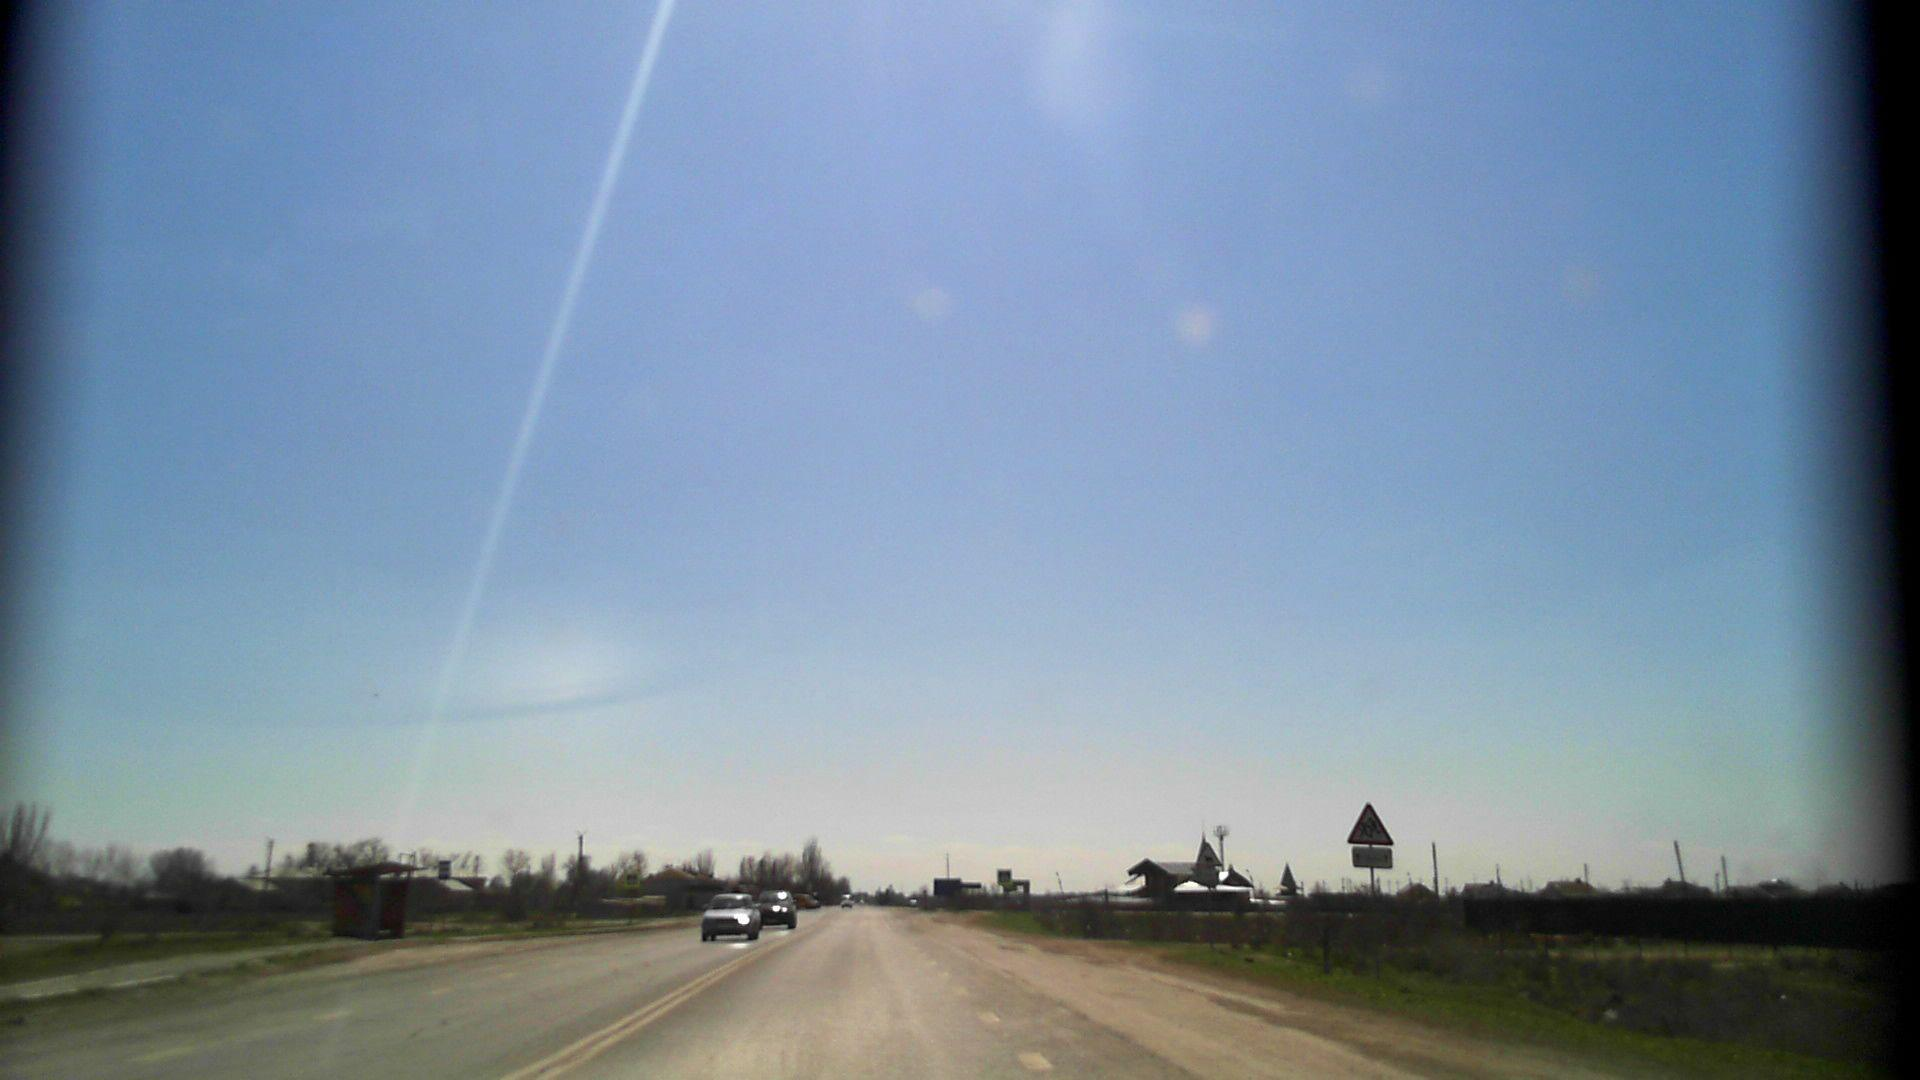1_23: (1344, 800, 1394, 844)
1_26: (1192, 837, 1222, 866)
5_16: (439, 860, 450, 878)
5_19_1: (1000, 870, 1011, 884)
5_19_2: (628, 873, 637, 885)
8_2_1: (1352, 847, 1395, 869), (1195, 866, 1222, 882)
